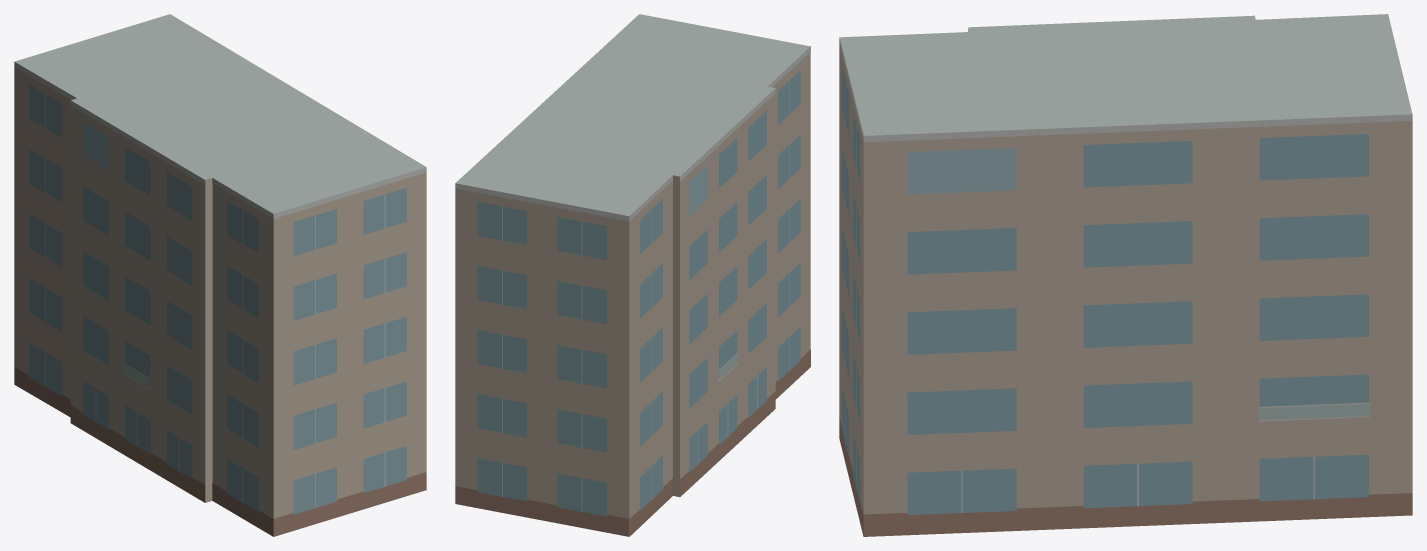
The model's file is survey-upis-32653491.glb.
The picture shows the model from 3 angles, left to right: view 1: azimuth 30°, elevation 25°; view 2: azimuth 150°, elevation 25°; view 3: azimuth 270°, elevation 25°; orthographic projection. The views are drawn at different scales.
Parts seen in each view (by area): view 1: survey-upis-32653491.tmp; view 2: survey-upis-32653491.tmp; view 3: survey-upis-32653491.tmp.
Boxes of the visible parts, bbox=[...] form: survey-upis-32653491.tmp: bbox=[14, 14, 426, 536]; survey-upis-32653491.tmp: bbox=[455, 14, 810, 536]; survey-upis-32653491.tmp: bbox=[839, 14, 1412, 536].
Bounding box in the file's own units: 9.95 × 15.25 × 19.77.
